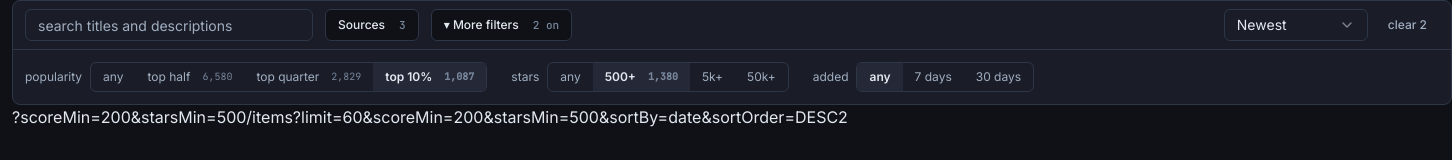
filter state lives in the URL › clear removes the filters and leaves the URL clean
This screenshot has width=1452, height=160.
Click the button "clear 2" at [1407, 25], box [1376,9,1439,41]
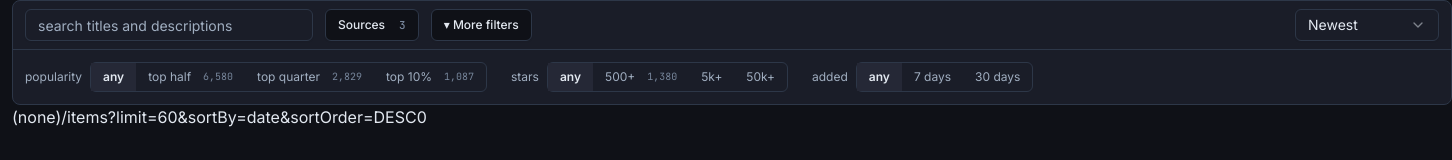
Check: the text with test id "url" reads "(none)", box [12,107,61,127]
